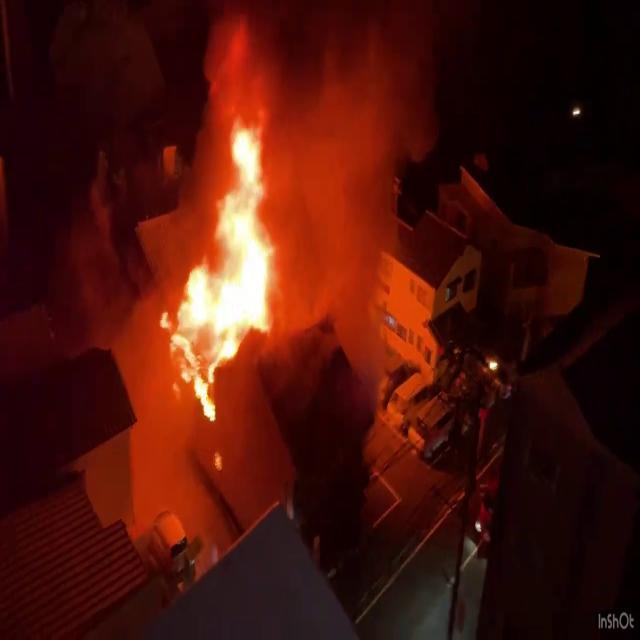Fire: (154, 105, 289, 428)
Smoke: (262, 1, 438, 327)
